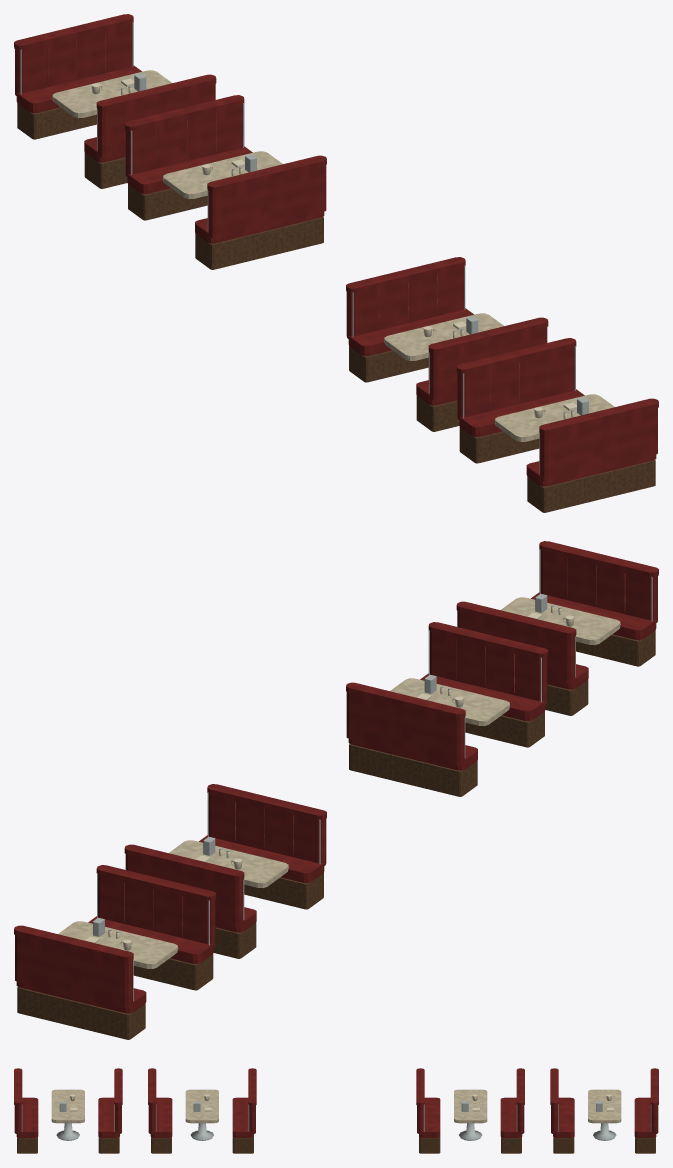
Rendered from SM_Mesa_Booths_LOD1.fbx.
3 renders of one model, top to bottom at view 1: azimuth 30°, elevation 25°; view 2: azimuth 150°, elevation 25°; view 3: azimuth 270°, elevation 25°, orthographic. The views are drawn at different scales.
Parts seen in each view (by area): view 1: SM_Mesa_Booths_LOD1; view 2: SM_Mesa_Booths_LOD1; view 3: SM_Mesa_Booths_LOD1.
Part boxes in pixels (x1=…): SM_Mesa_Booths_LOD1: x1=14, y1=14, x2=658, y2=512; SM_Mesa_Booths_LOD1: x1=14, y1=541, x2=658, y2=1039; SM_Mesa_Booths_LOD1: x1=14, y1=1068, x2=658, y2=1153.
Bounding box in the file's own units: 1.87 × 14.67 × 1.28.
